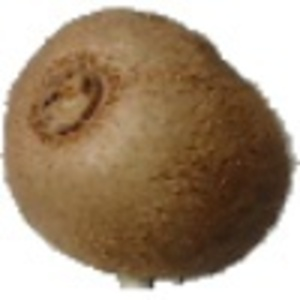kiwi: (1, 5, 300, 290)
